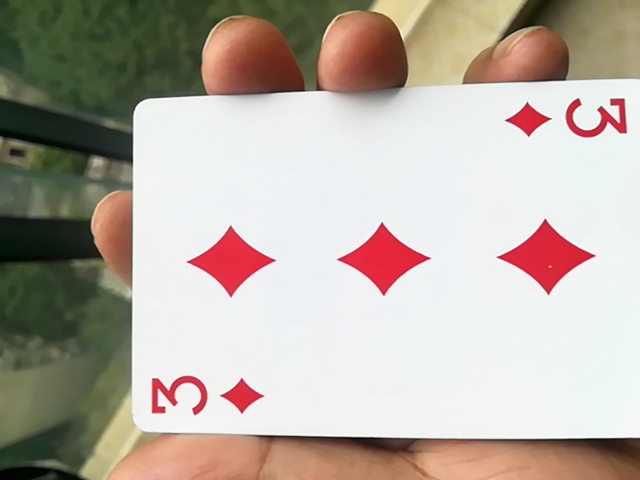fk 3: (115, 104, 635, 462)
